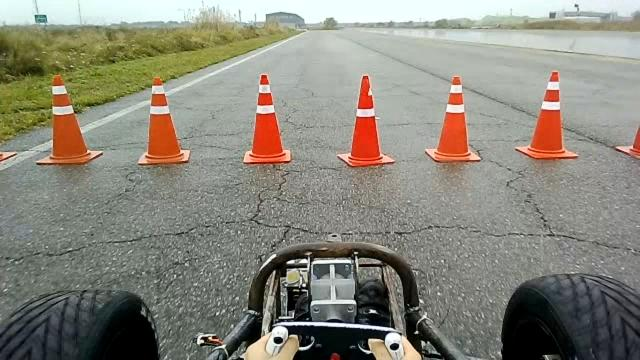red cone: (35, 73, 103, 165), (514, 70, 579, 160), (336, 74, 396, 167), (424, 74, 482, 163), (137, 76, 190, 165), (242, 73, 292, 164)
